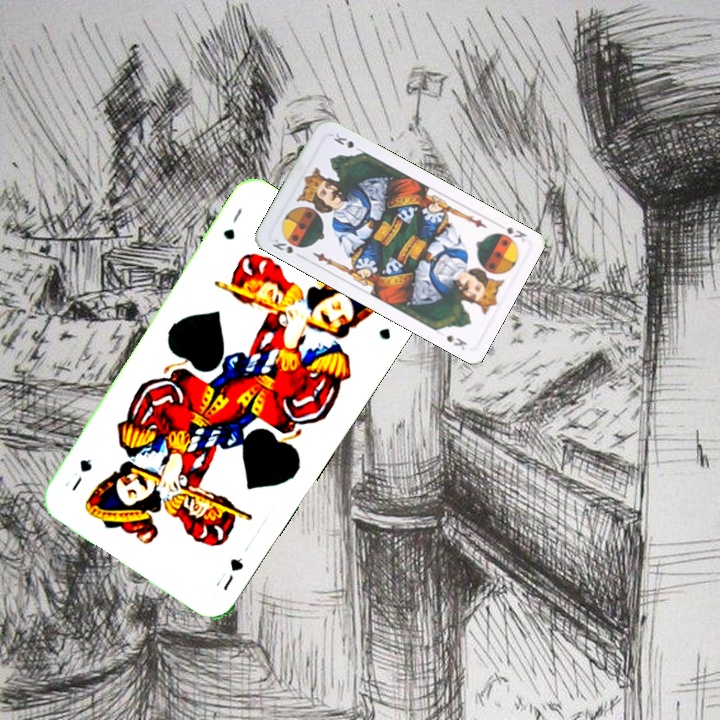GU: (219, 553, 246, 593), (219, 204, 245, 243)
SK: (268, 234, 296, 256), (501, 223, 530, 244)
